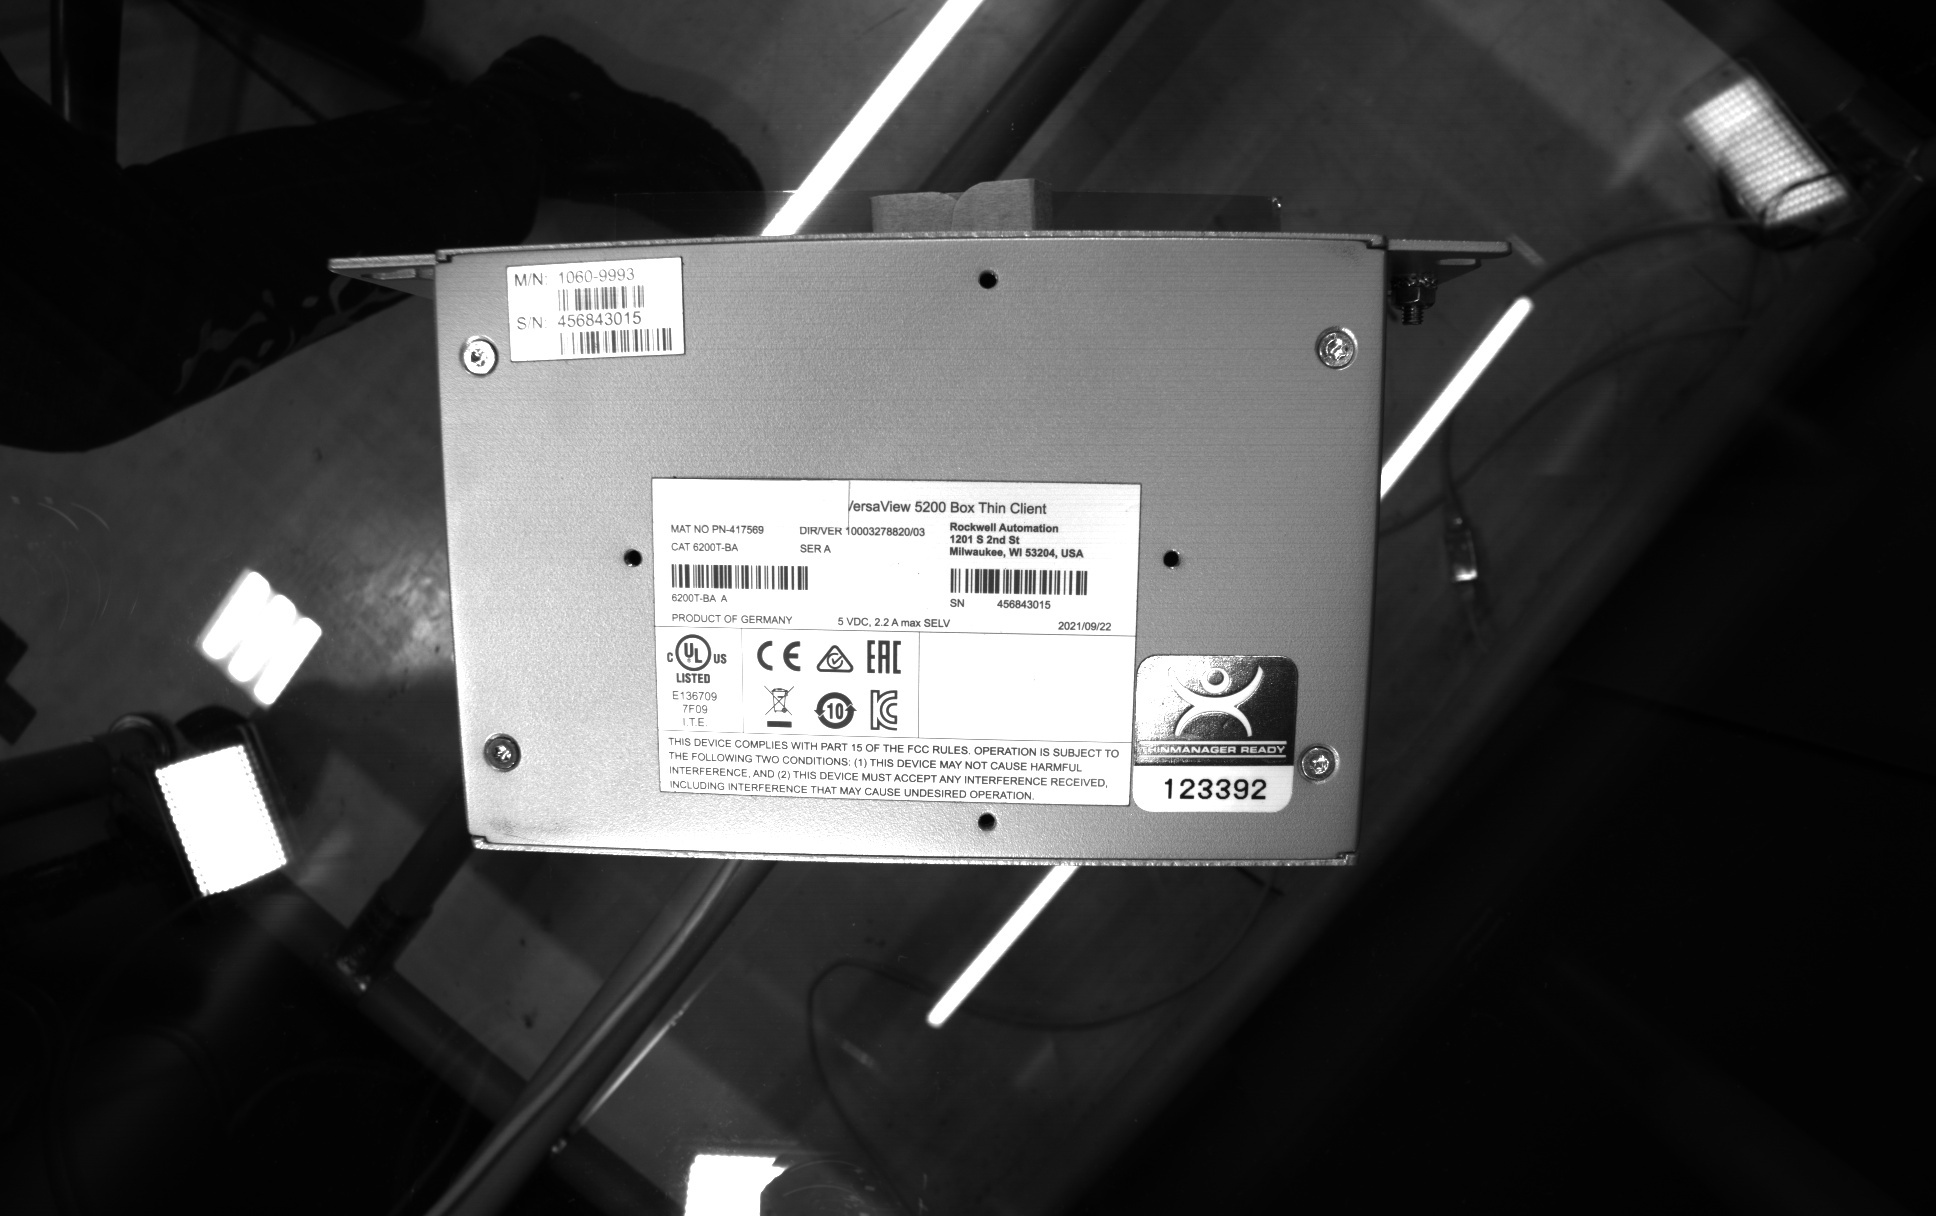Barcode: (941, 559, 1094, 601), (665, 558, 815, 595), (553, 321, 679, 363), (551, 277, 653, 317)
CamTop: (422, 219, 1404, 883)
Label_Seriennummer: (640, 464, 1147, 818)
Loch_Montage: (614, 532, 654, 579), (967, 801, 1009, 841), (1154, 537, 1194, 577), (967, 261, 1007, 296)
Schraube: (1308, 322, 1366, 375), (476, 726, 527, 782), (1294, 735, 1343, 790), (452, 331, 502, 382)
